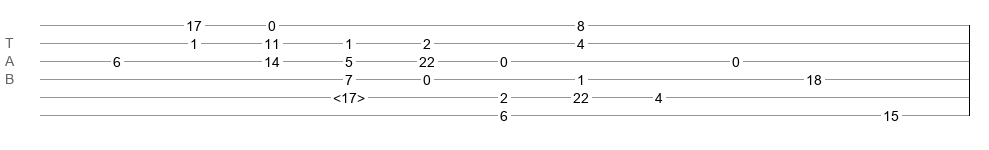0: (268, 18, 276, 28), (423, 72, 431, 82), (500, 54, 508, 64), (732, 54, 740, 64)
1: (190, 36, 198, 46), (345, 36, 353, 46), (577, 72, 585, 82)
11: (264, 36, 280, 46)
14: (264, 54, 280, 64)
15: (883, 108, 899, 118)
17: (186, 18, 202, 28)
18: (806, 72, 822, 82)
2: (423, 36, 431, 46), (500, 90, 508, 100)
22: (419, 54, 435, 64), (573, 90, 589, 100)
4: (577, 36, 585, 46), (655, 90, 663, 100)
5: (345, 54, 353, 64)
6: (113, 54, 121, 64), (500, 108, 508, 118)
7: (345, 72, 353, 82)
8: (577, 18, 585, 28)
harmonic: (333, 90, 365, 100)
